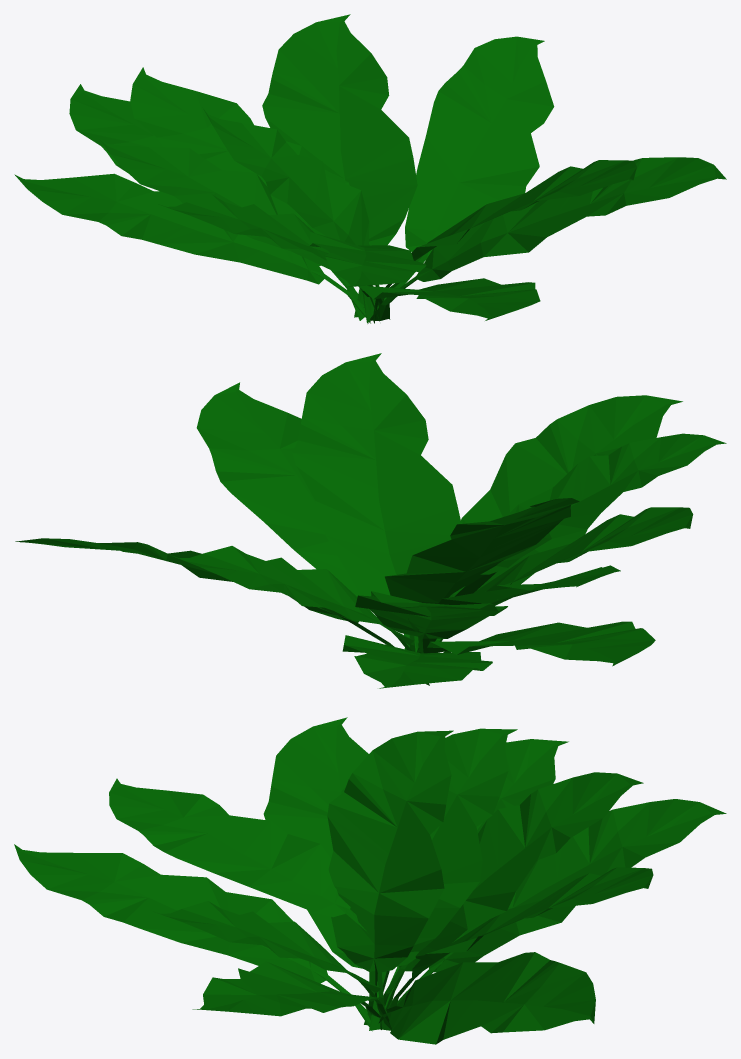
File: Vegetation_Modular_New_Tropical_Plant_01.FBX
The picture shows the model from 3 angles, top to bottom: view 1: azimuth 30°, elevation 25°; view 2: azimuth 150°, elevation 25°; view 3: azimuth 270°, elevation 25°; orthographic projection. The views are drawn at different scales.
Visible parts, largest first — view 1: Vegetation_Modular_New_Tropical_Plant_01; view 2: Vegetation_Modular_New_Tropical_Plant_01; view 3: Vegetation_Modular_New_Tropical_Plant_01.
Part boxes in pixels (box(x1,y1,x2,y2)): Vegetation_Modular_New_Tropical_Plant_01: box(14, 14, 726, 323); Vegetation_Modular_New_Tropical_Plant_01: box(15, 353, 726, 688); Vegetation_Modular_New_Tropical_Plant_01: box(14, 717, 726, 1044).
Bounding box in the file's own units: 3029 × 1154 × 3293.
